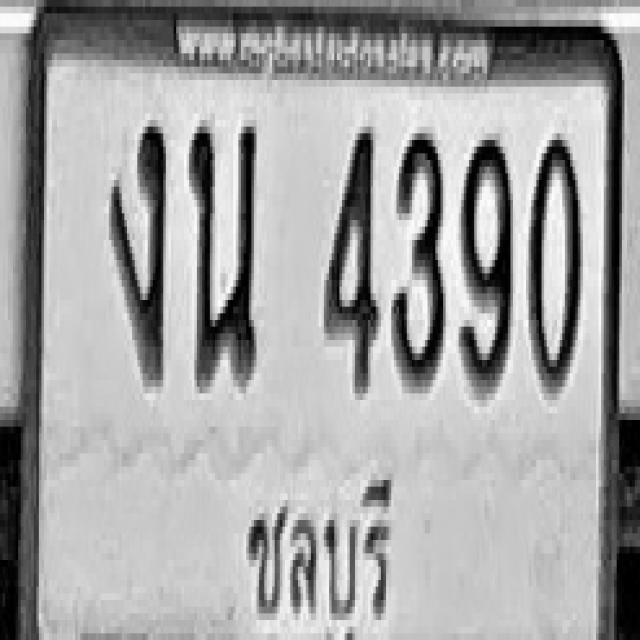0: (528, 130, 580, 390)
16NgorNgu: (109, 116, 166, 376)
3: (391, 124, 443, 384)
34NorNu: (189, 117, 257, 383)
4: (324, 123, 378, 390)
9: (460, 130, 512, 390)
Chonburi: (236, 465, 398, 640)
